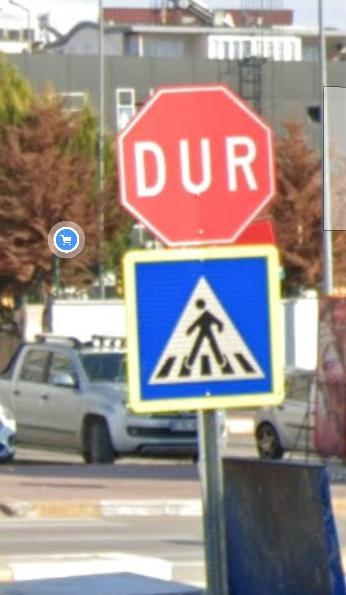stop: (123, 93, 277, 238)
